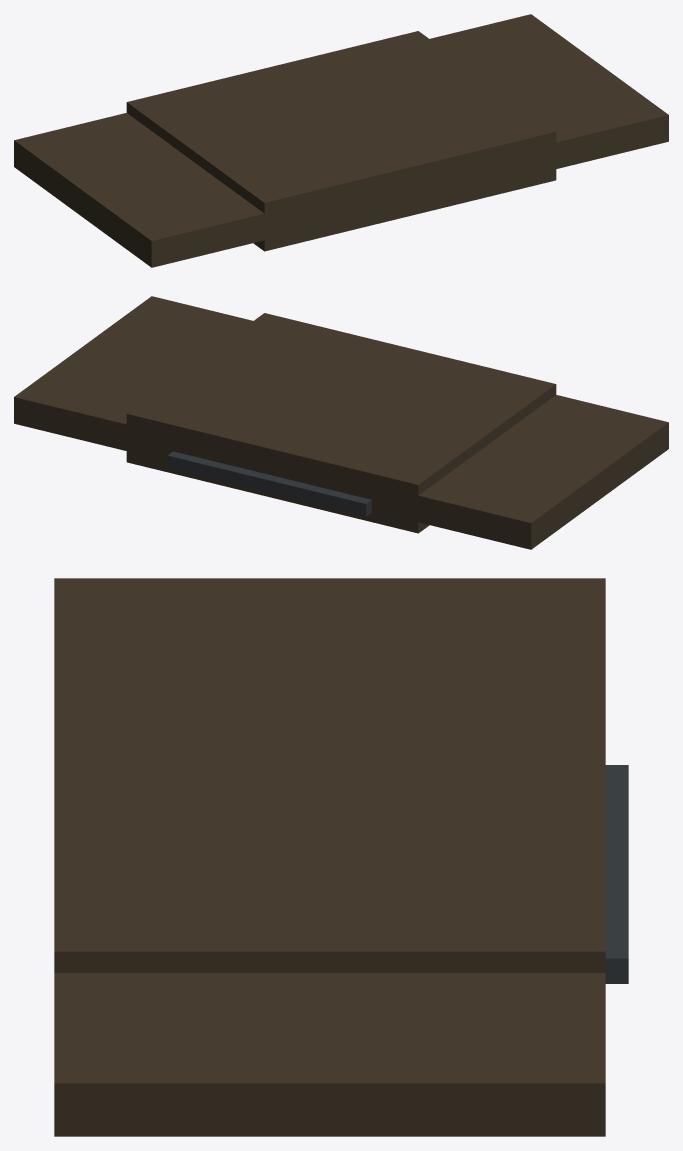
File: jacket.glb
3 views of the same model, one above another, from view 1: azimuth 30°, elevation 25°; view 2: azimuth 150°, elevation 25°; view 3: azimuth 270°, elevation 25° (orthographic). The views are drawn at different scales.
Visible parts, largest first — view 1: jacket:folded-garment; view 2: jacket:folded-garment; view 3: jacket:folded-garment.
Part boxes in pixels (x1,y1,x2,y2): jacket:folded-garment: (14, 14, 668, 267); jacket:folded-garment: (14, 296, 668, 549); jacket:folded-garment: (54, 578, 628, 1136).
Size of the model in its own units: 0.78 by 0.07 by 0.375.
